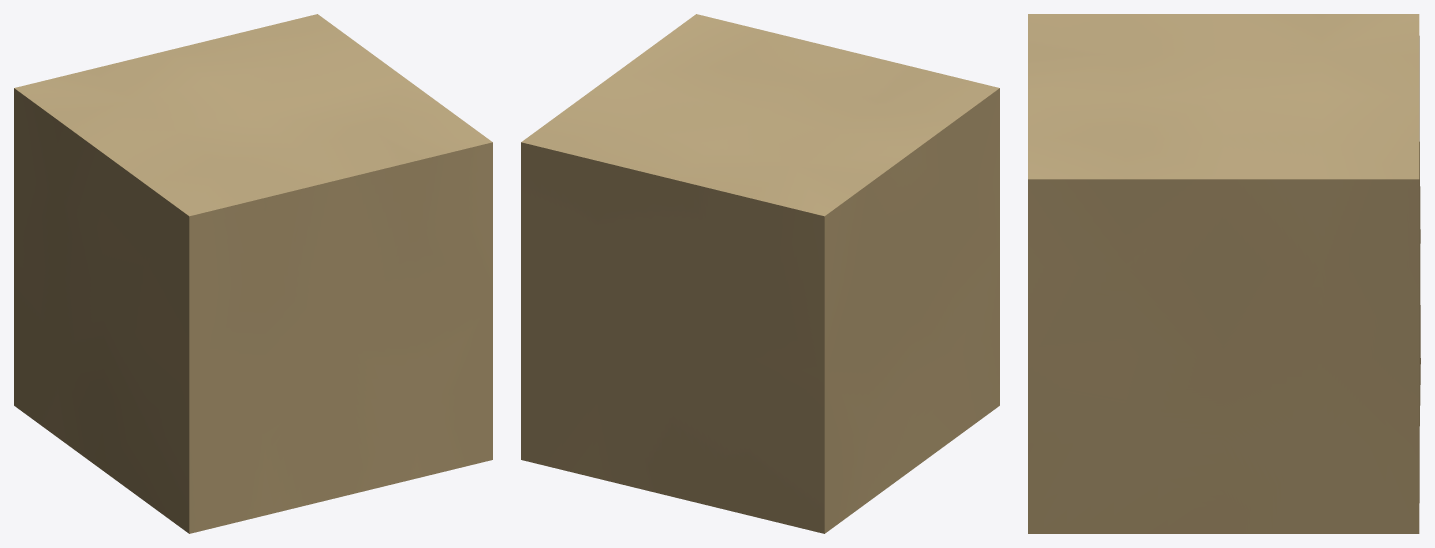
File: natural-block-sand.gltf
3 renders of one model, left to right at view 1: azimuth 30°, elevation 25°; view 2: azimuth 150°, elevation 25°; view 3: azimuth 270°, elevation 25°, orthographic. The views are drawn at different scales.
Visible parts, largest first — view 1: natural-block-sand; view 2: natural-block-sand; view 3: natural-block-sand.
Part boxes in pixels (box(x1,y1,x2,y2)): natural-block-sand: box(14, 14, 492, 533); natural-block-sand: box(521, 14, 999, 533); natural-block-sand: box(1028, 14, 1420, 533).
Bounding box in the file's own units: 1 × 1 × 1.
